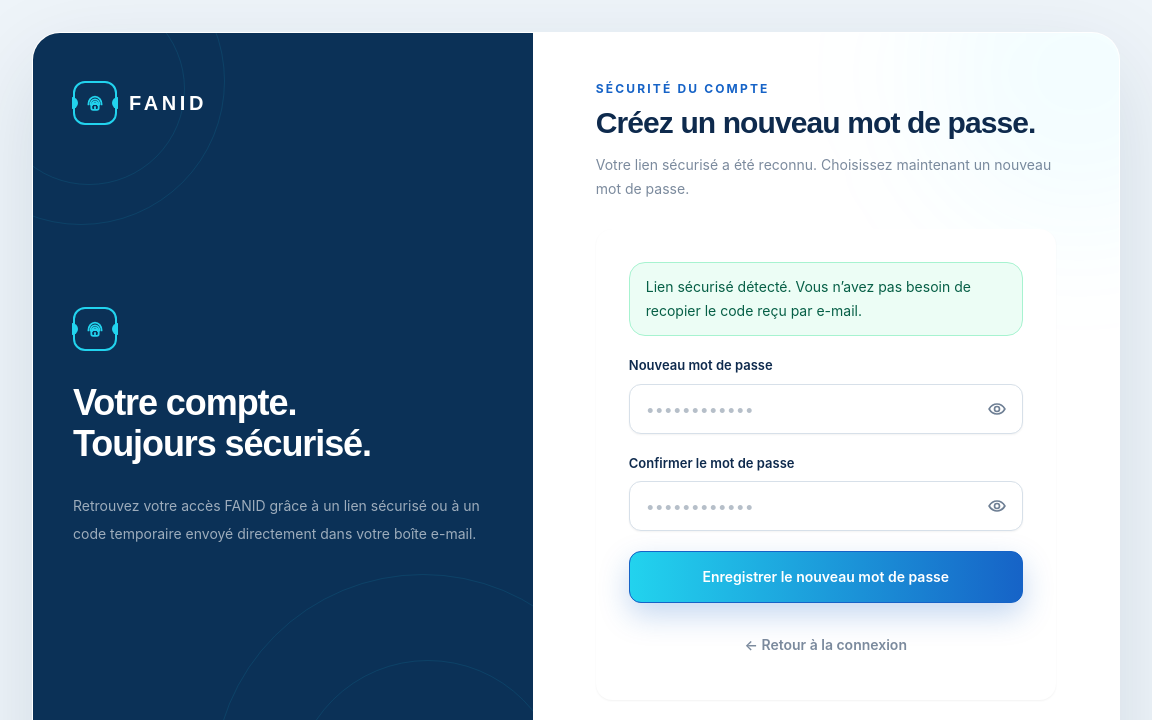
PasswordResetPage › bloque localement deux mots de passe différents
The width and height of the screenshot is (1152, 720).
Type "Grenadine-Tumultueuse-2027" into the password field labelled "Nouveau mot de passe". click: (826, 408)
box: left=629, top=384, right=1023, bottom=434
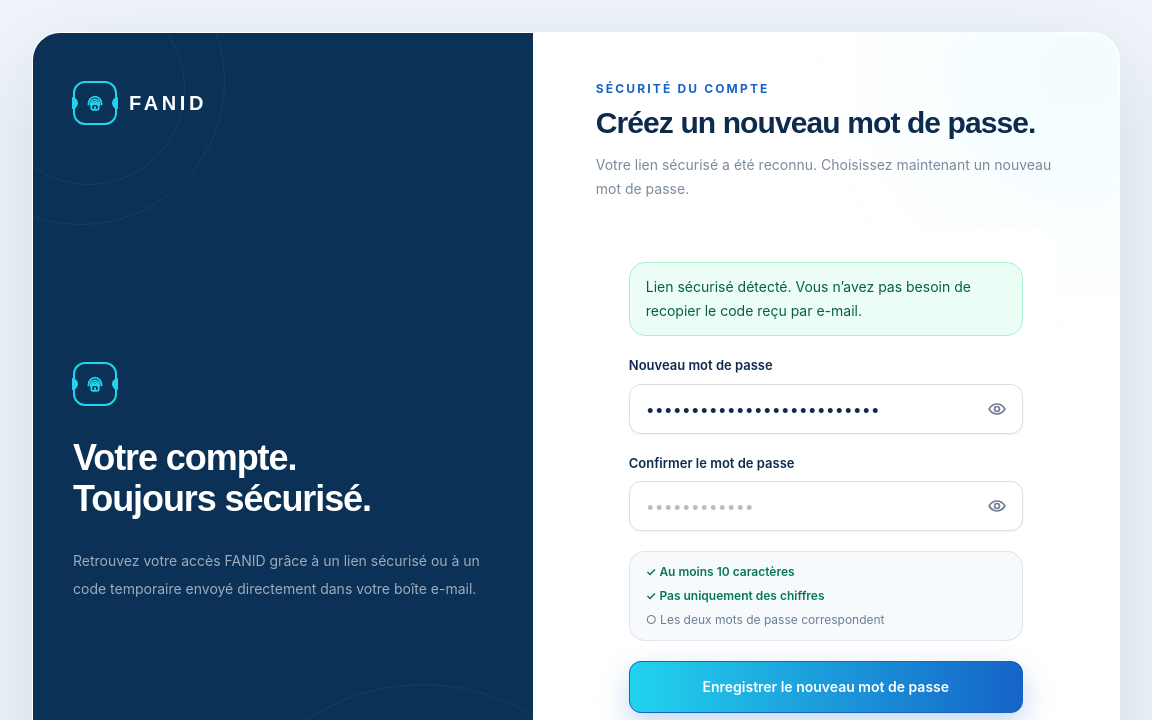
Type "Different-Password-2027" into the password field labelled "Confirmer le mot de passe". click: (826, 506)
box: left=629, top=481, right=1023, bottom=531
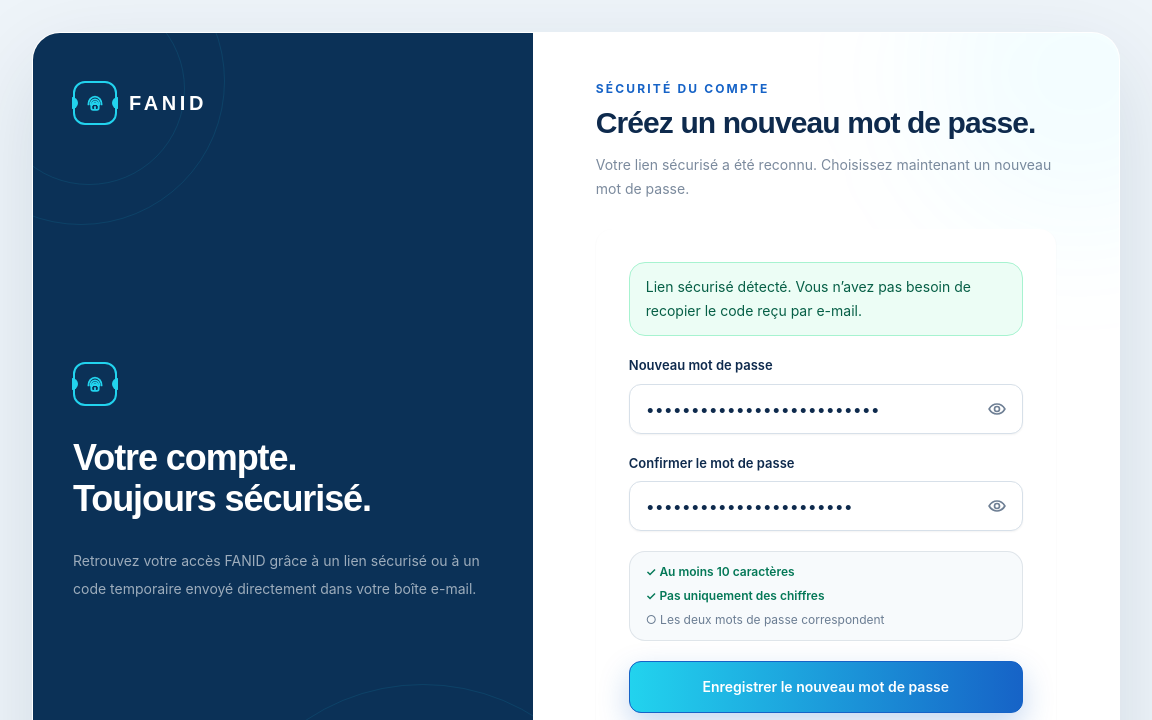
Click the button "Enregistrer le nouveau mot de passe". click: (826, 687)
box: left=629, top=661, right=1023, bottom=713
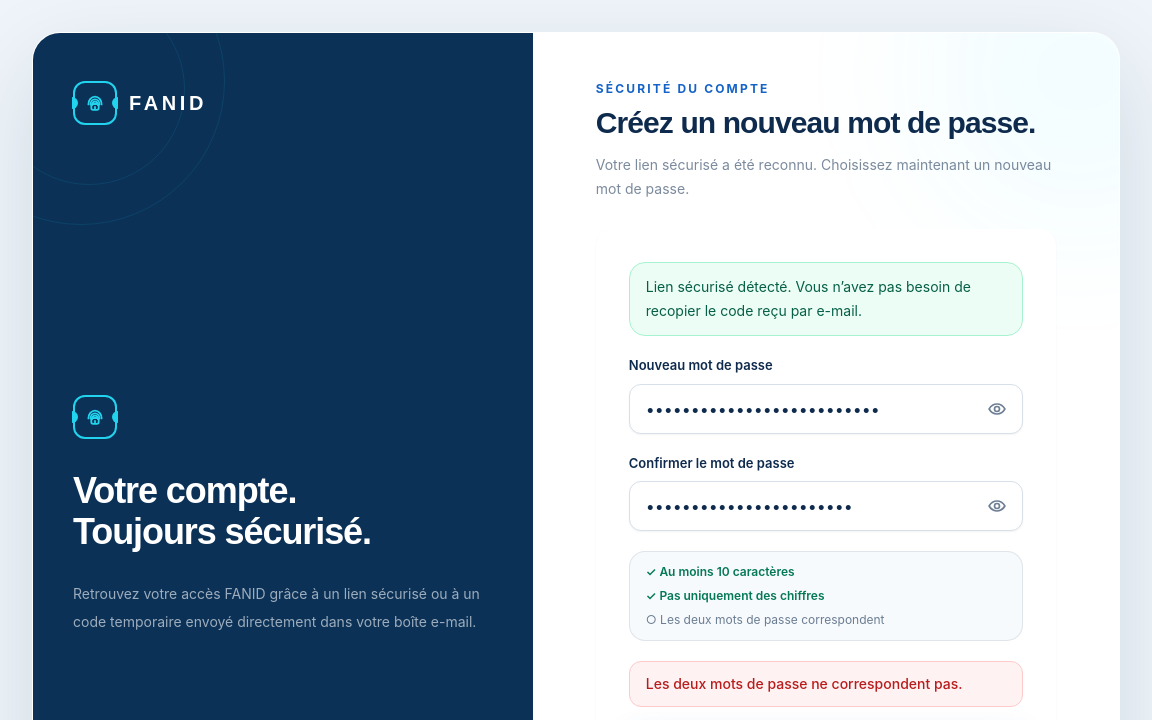
Now the text "Les deux mots de passe ne correspondent pas." is shown, box left=629, top=661, right=1023, bottom=707
